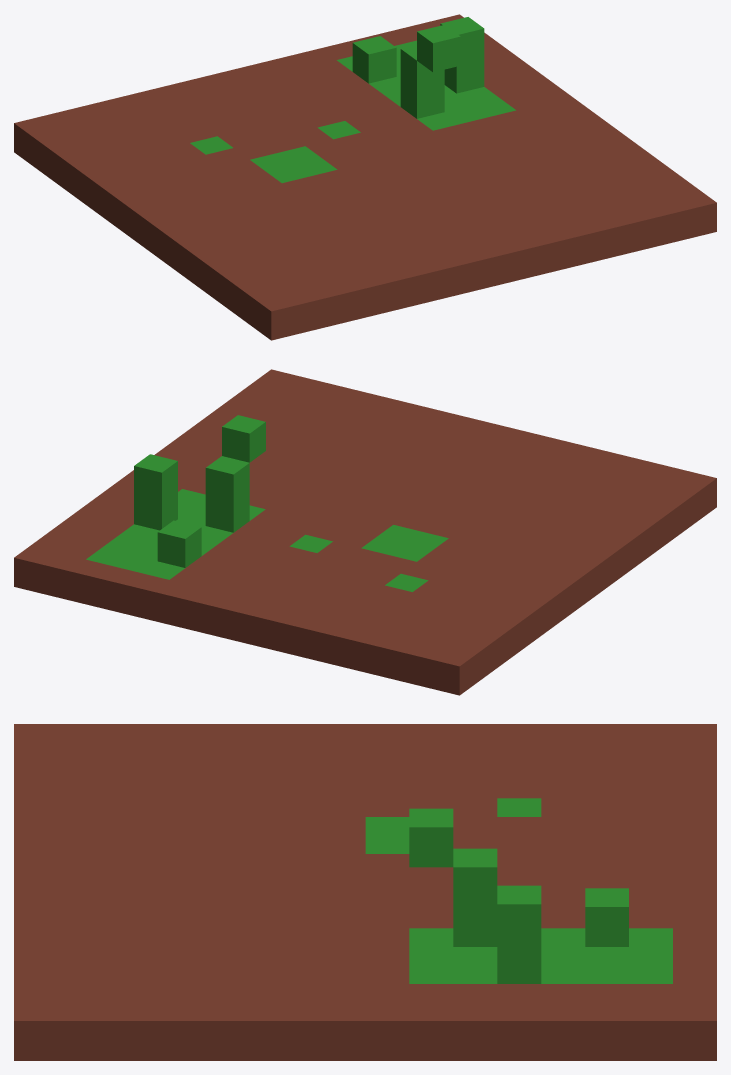
The model's file is floor4.obj.
The picture shows the model from 3 angles, top to bottom: view 1: azimuth 30°, elevation 25°; view 2: azimuth 150°, elevation 25°; view 3: azimuth 270°, elevation 25°; orthographic projection. The views are drawn at different scales.
Size of the model in its own units: 16 by 4 by 16.
1 material, 1 textured.
